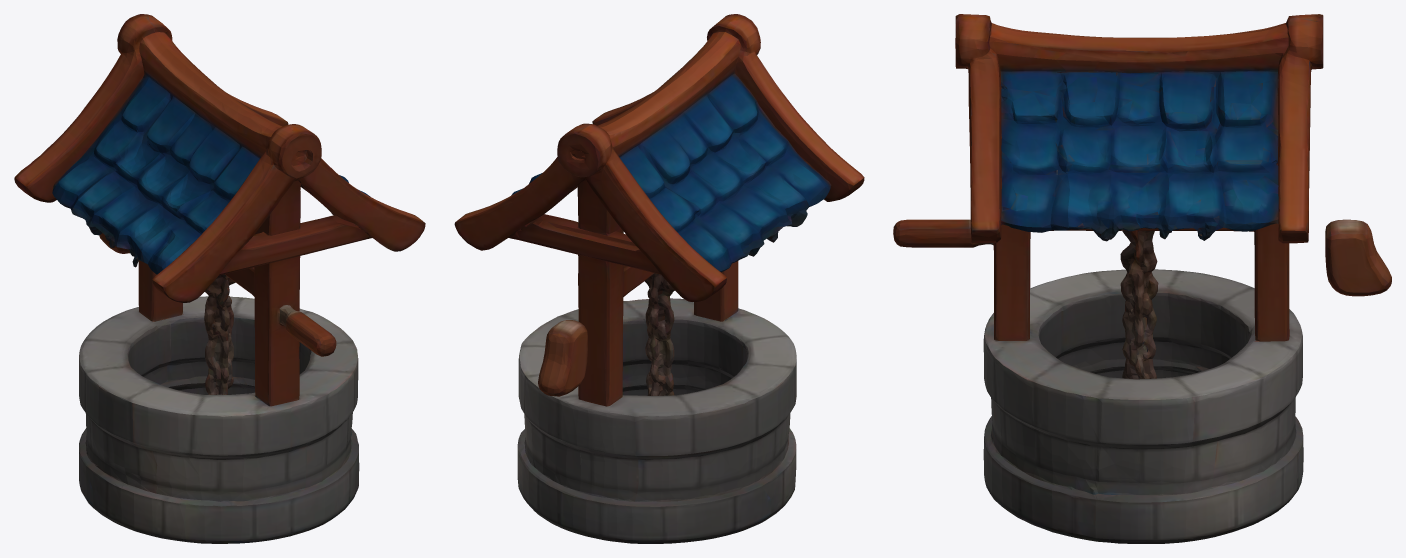
Rendered from well.glb.
3 renders of one model, left to right at view 1: azimuth 30°, elevation 25°; view 2: azimuth 150°, elevation 25°; view 3: azimuth 270°, elevation 25°, orthographic. The views are drawn at different scales.
Parts seen in each view (by area): view 1: world.001; view 2: world.001; view 3: world.001.
Boxes of the visible parts, left/top/right/bottom form: world.001: left=14, top=14, right=425, bottom=543; world.001: left=454, top=14, right=864, bottom=543; world.001: left=893, top=14, right=1391, bottom=543.
Size of the model in its own units: 0.6665 by 1 by 0.9771.
1 material, 1 textured.
